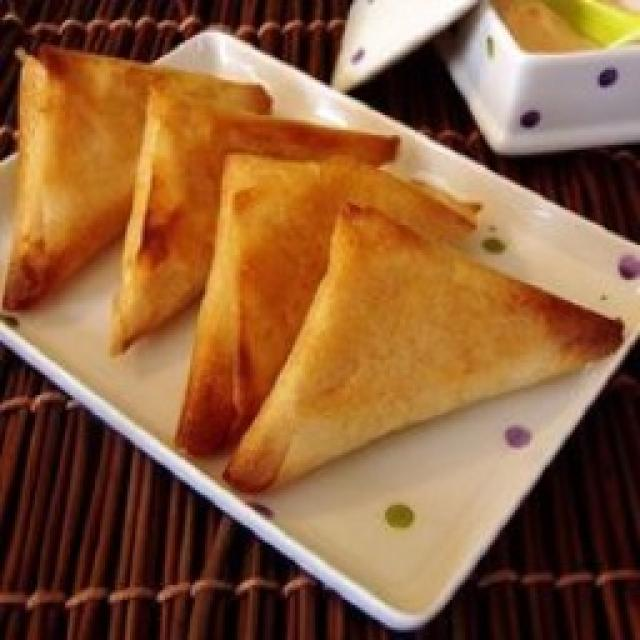Brik: (4, 48, 622, 491)
